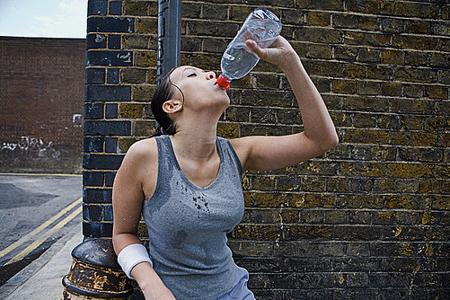person: (110, 22, 340, 300)
